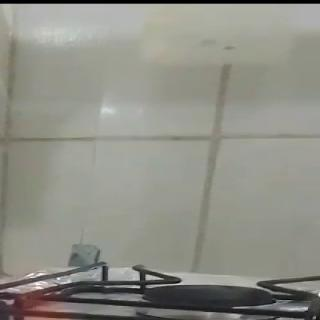fire: (0, 259, 180, 320)
